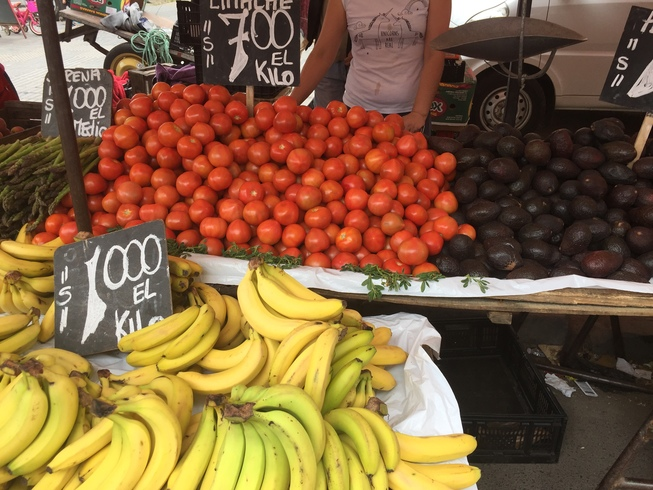precio: (46, 210, 185, 362), (197, 1, 307, 88), (38, 61, 116, 146)
